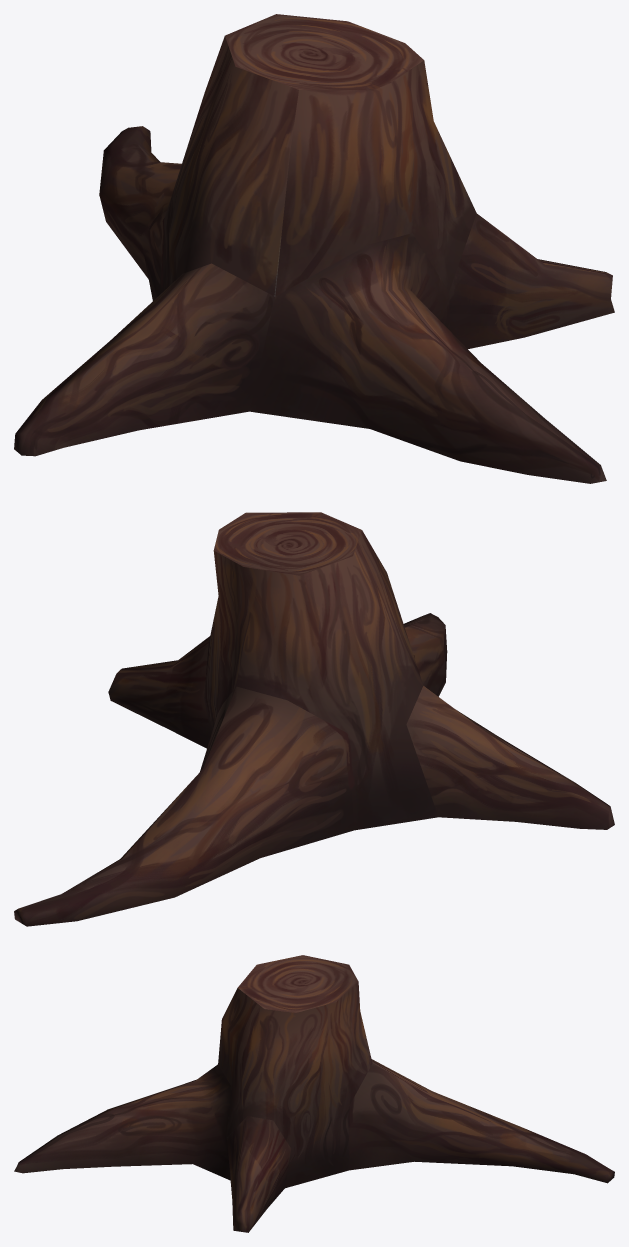
The model's file is stump.fbx.
3 renders of one model, top to bottom at view 1: azimuth 30°, elevation 25°; view 2: azimuth 150°, elevation 25°; view 3: azimuth 270°, elevation 25°, orthographic. The views are drawn at different scales.
Parts seen in each view (by area): view 1: stump; view 2: stump; view 3: stump.
Boxes of the visible parts, x1,y1,x2,y2 form: stump: (14, 14, 614, 483); stump: (14, 512, 614, 926); stump: (14, 955, 614, 1232).
Bounding box in the file's own units: 47.34 × 22.1 × 66.61.
